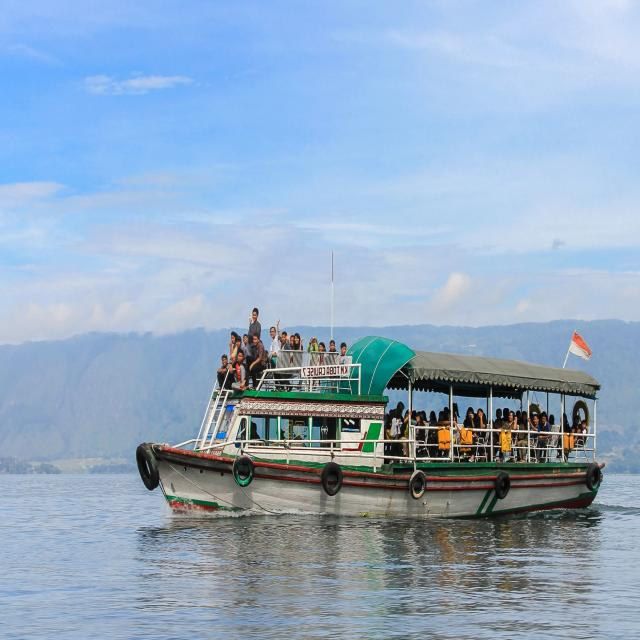passenger ship: (140, 294, 613, 566)
